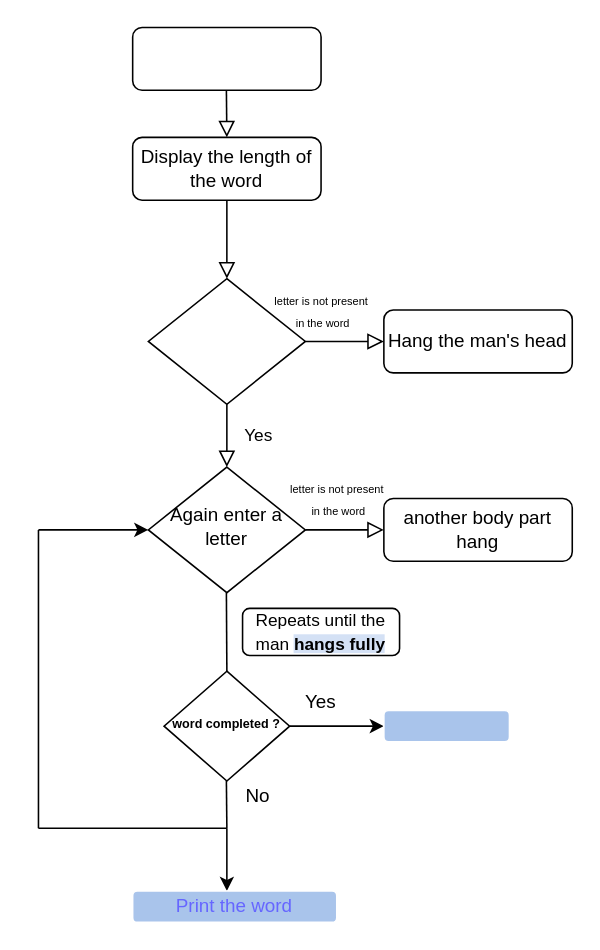
The diagram is 600 pixels wide and 950 high, and some of its shapes have lost their labels. The box of each missing label's shape, as (x1, y1, x2, y2) in pixels:
Generate a random word: (131, 26, 321, 90)
player enters a letter, From a-z: (147, 277, 305, 404)
Player win: (382, 709, 509, 742)
